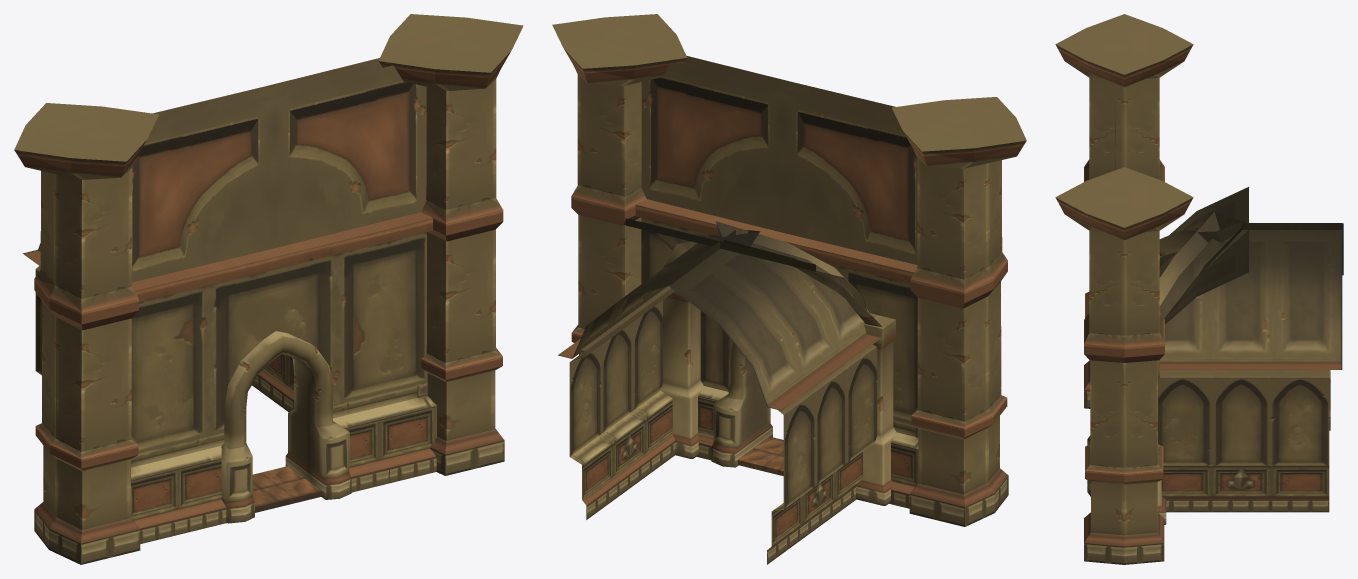
Rendered from wall big door3.FBX.
3 views of the same model, side by side, from view 1: azimuth 30°, elevation 25°; view 2: azimuth 150°, elevation 25°; view 3: azimuth 270°, elevation 25° (orthographic). The views are drawn at different scales.
Visible parts, largest first — view 1: wall big door3; view 2: wall big door3; view 3: wall big door3.
Boxes of the visible parts, x1,y1,x2,y2 form: wall big door3: (14, 14, 523, 564); wall big door3: (552, 14, 1026, 564); wall big door3: (1055, 14, 1343, 564).
Size of the model in its own units: 1237 by 947 by 704.
